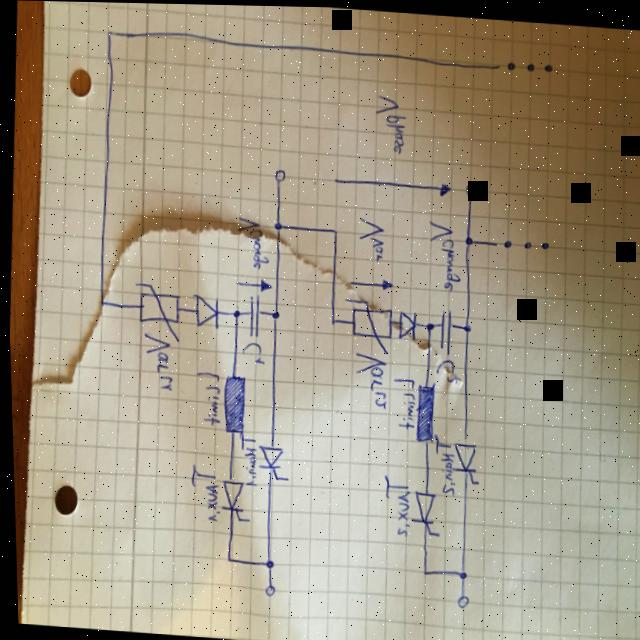capacitor: (435, 305, 452, 354), (244, 290, 259, 337)
diode: (188, 290, 219, 330), (393, 307, 415, 342)
inductor: (217, 373, 245, 434), (410, 381, 433, 442)
junction: (421, 317, 432, 334), (452, 565, 464, 580), (267, 308, 278, 323), (461, 232, 472, 247), (270, 219, 282, 232), (259, 557, 270, 569), (459, 319, 469, 332), (229, 306, 238, 318), (104, 27, 112, 39), (326, 315, 335, 325), (220, 554, 228, 564), (94, 297, 102, 307), (417, 566, 424, 576), (328, 226, 336, 234)
terminal: (270, 166, 285, 187), (495, 56, 515, 71), (491, 235, 511, 248), (462, 180, 475, 197), (452, 592, 465, 607), (259, 582, 271, 597)
text: (421, 217, 461, 291), (348, 348, 386, 411), (370, 90, 406, 155), (231, 213, 269, 270), (184, 462, 219, 523), (376, 470, 408, 536), (137, 331, 171, 391), (188, 367, 221, 426), (426, 431, 454, 494), (386, 374, 414, 432), (232, 429, 257, 487), (353, 214, 382, 260), (430, 354, 456, 384), (237, 338, 263, 366)
thyristor: (405, 487, 434, 535), (449, 434, 476, 484), (214, 475, 242, 522), (252, 441, 281, 481)
